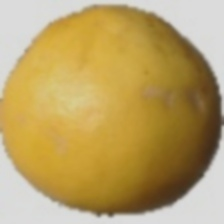grapes: (18, 24, 202, 163)
